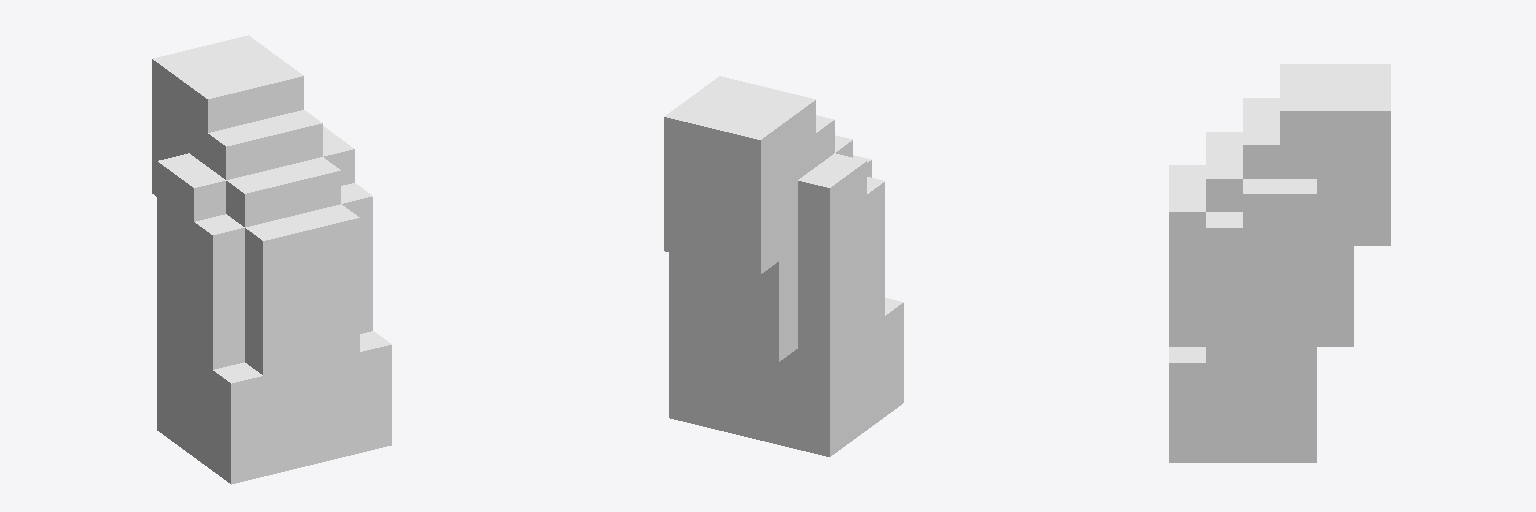
Rendered from arm.obj.
The picture shows the model from 3 angles: view 1: azimuth 30°, elevation 25°; view 2: azimuth 150°, elevation 25°; view 3: azimuth 270°, elevation 25°; orthographic projection.
Bounding box in the file's own units: 5 × 10 × 6.